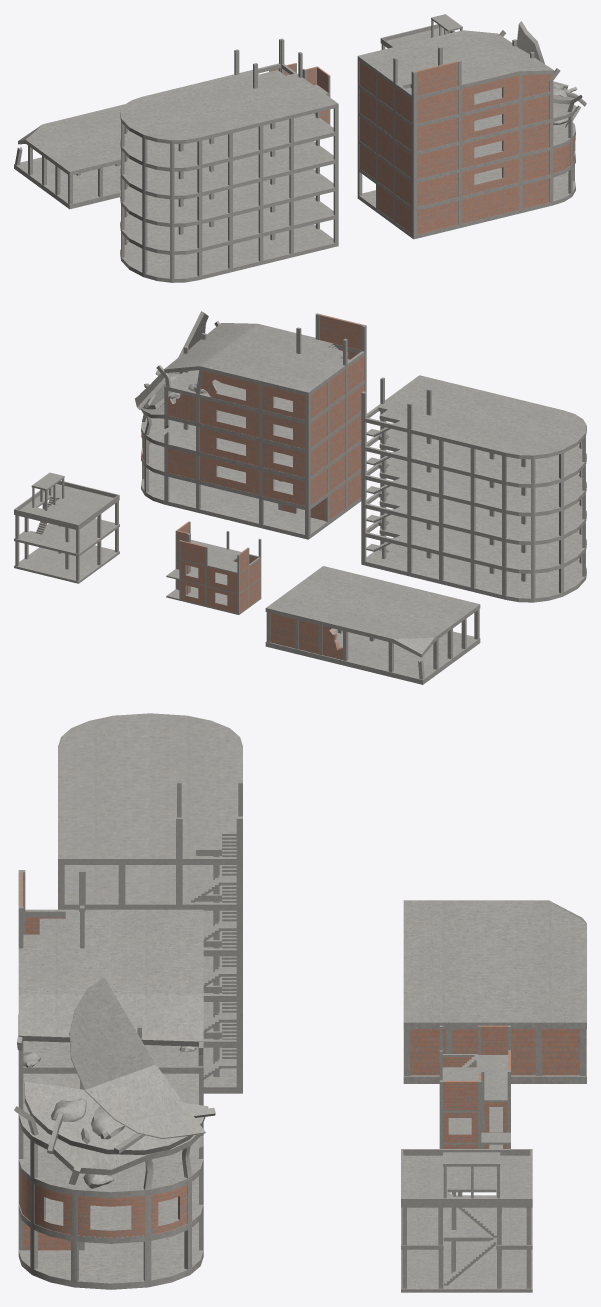
Rendered from construction_pack_low_poly.glb.
3 renders of one model, top to bottom at view 1: azimuth 30°, elevation 25°; view 2: azimuth 150°, elevation 25°; view 3: azimuth 270°, elevation 25°, orthographic. The views are drawn at different scales.
Visible parts, largest first — view 1: Construction5, Construction3, Construction2, Construction4, Construction1; view 2: Construction5, Construction3, Construction2, Construction4, Construction1; view 3: Construction3, Construction5, Construction2, Construction4, Construction1.
Part boxes in pixels (bbox=[...]): Construction5: bbox=[120, 38, 338, 282]; Construction3: bbox=[357, 21, 586, 239]; Construction2: bbox=[14, 104, 128, 209]; Construction4: bbox=[380, 14, 462, 49]; Construction1: bbox=[269, 63, 330, 124]; Construction5: bbox=[361, 375, 586, 602]; Construction3: bbox=[135, 311, 366, 539]; Construction2: bbox=[265, 566, 480, 684]; Construction4: bbox=[14, 472, 119, 583]; Construction1: bbox=[166, 521, 261, 614]; Construction3: bbox=[14, 870, 215, 1289]; Construction5: bbox=[58, 713, 242, 1093]; Construction2: bbox=[403, 900, 586, 1083]; Construction4: bbox=[401, 1149, 532, 1292]; Construction1: bbox=[439, 1025, 510, 1148].
Bounding box in the file's own units: 61.67 × 22.88 × 43.24.
1 material, 1 textured.
